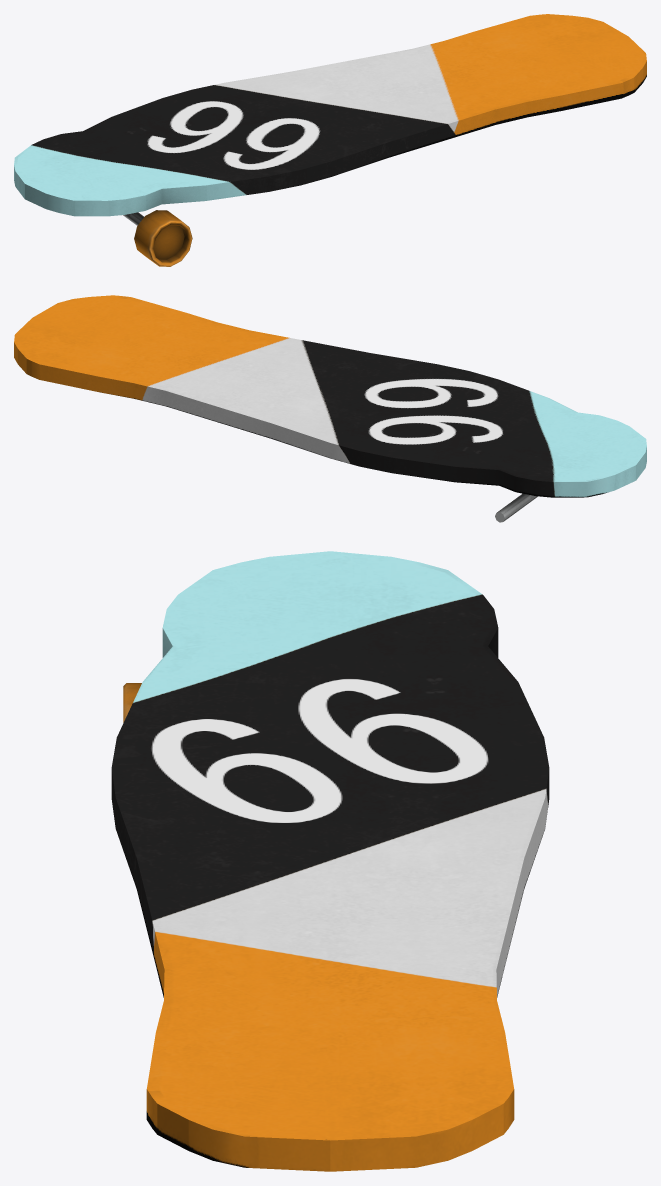
Rendered from SkateBoard09.fbx.
The picture shows the model from 3 angles, top to bottom: view 1: azimuth 30°, elevation 25°; view 2: azimuth 150°, elevation 25°; view 3: azimuth 270°, elevation 25°; orthographic projection. The views are drawn at different scales.
Visible parts, largest first — view 1: Board, Wheel; view 2: Board, BoardBase; view 3: Board.
Boxes of the visible parts, bbox=[...] form: Board: bbox=[14, 14, 646, 216]; Wheel: bbox=[134, 210, 192, 266]; Board: bbox=[14, 295, 646, 497]; BoardBase: bbox=[495, 493, 537, 522]; Board: bbox=[111, 551, 549, 1171].
Bounding box in the file's own units: 0.6931 × 0.0755 × 0.2175.
